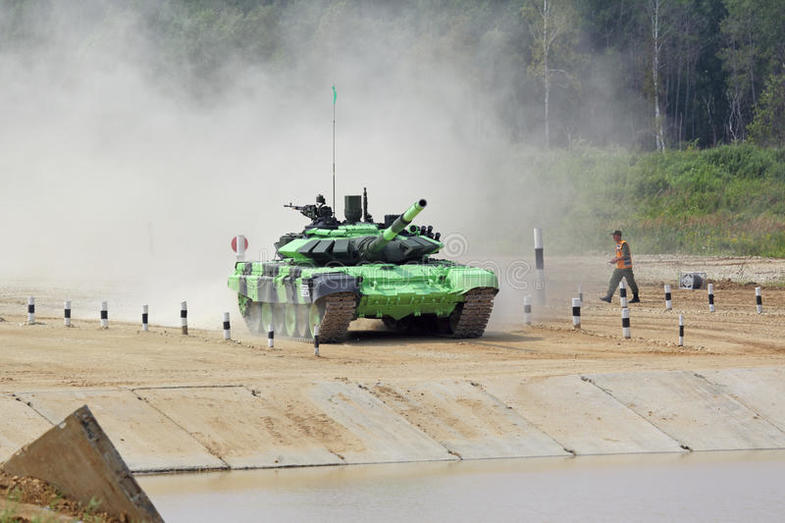t72: (247, 194, 500, 353)
